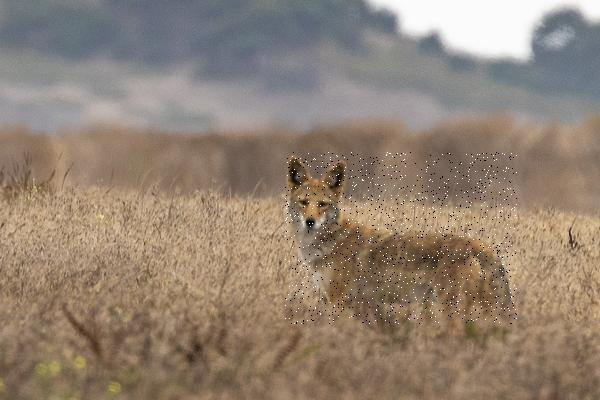Coyote: (285, 153, 517, 325)
